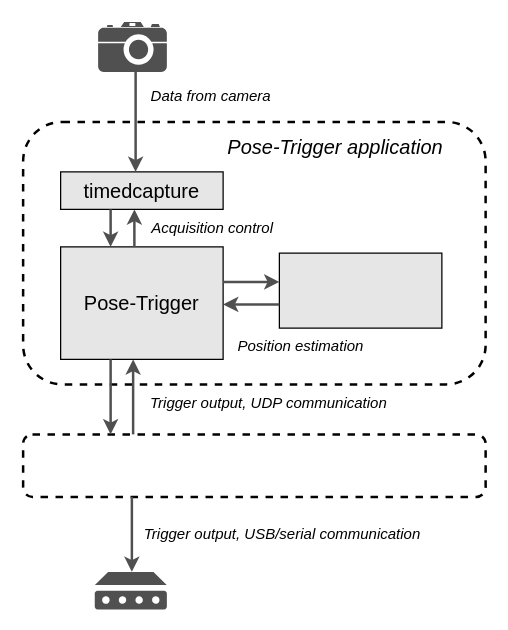
Some shapes in this 508 by 630 pixel diagram are drawn without their labels. The centre of each missing label's shape, as x and y in pixels:
"DeepLabCut" goes at pixel 360 290.
"FastEventServer" goes at pixel 253 465.
